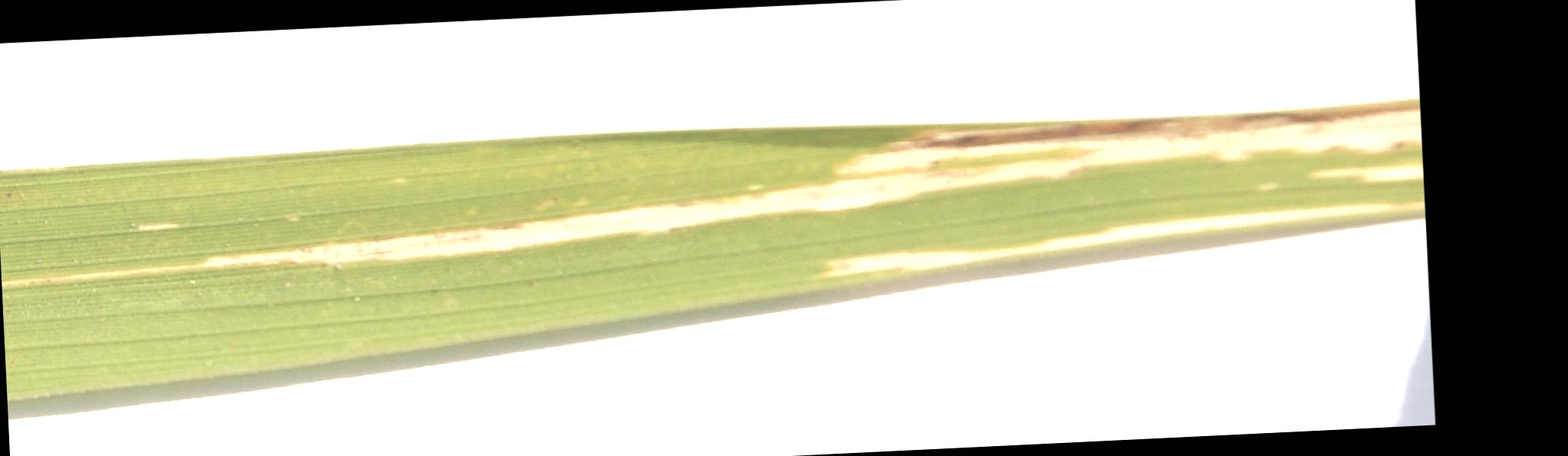Leaf_Blast: (0, 108, 1422, 312)
